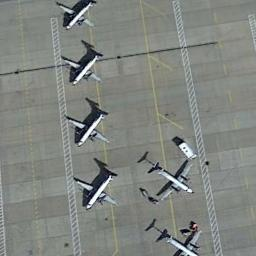Airplane: (144, 152, 198, 202), (74, 167, 126, 217), (62, 46, 108, 94), (65, 110, 115, 150), (158, 223, 207, 256), (58, 0, 104, 35)
